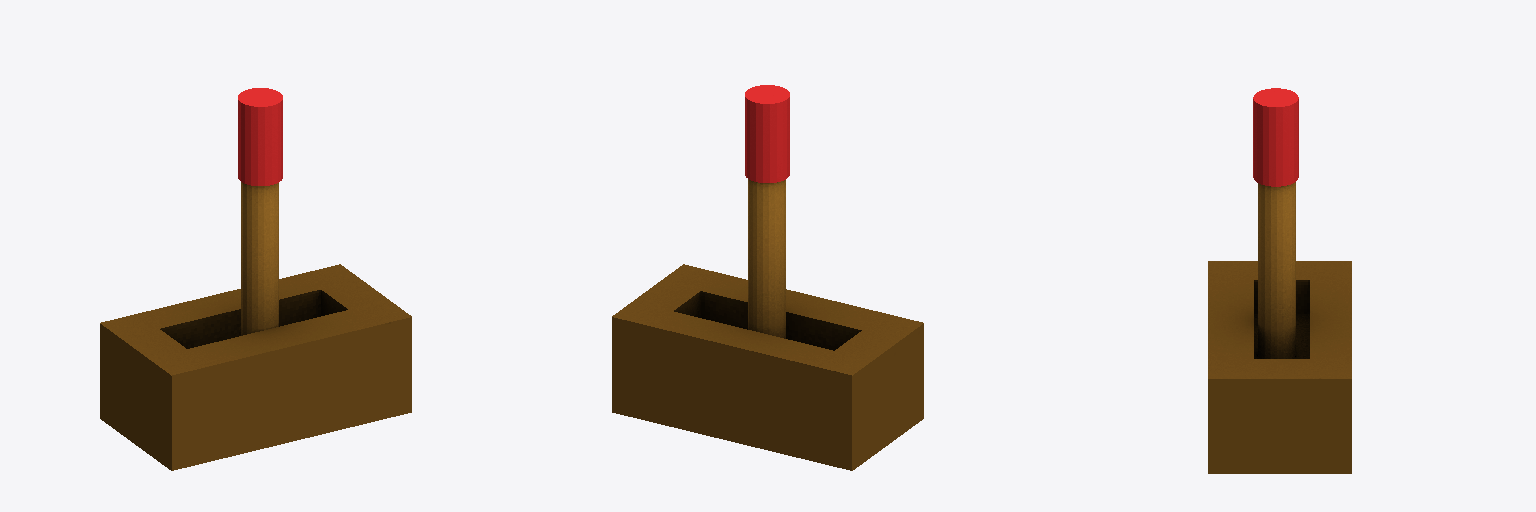
3 views of the same model, side by side, from view 1: azimuth 30°, elevation 25°; view 2: azimuth 150°, elevation 25°; view 3: azimuth 270°, elevation 25° (orthographic).
Visible parts, largest first — view 1: pCube2; view 2: pCube2; view 3: pCube2.
Part boxes in pixels (x1,y1,x2,y2): pCube2: (100,88,411,470); pCube2: (612,85,923,470); pCube2: (1208,88,1351,473).
Size of the model in its own units: 3.19 by 4.04 by 1.65.
Materials: 1 (1 with a texture image).